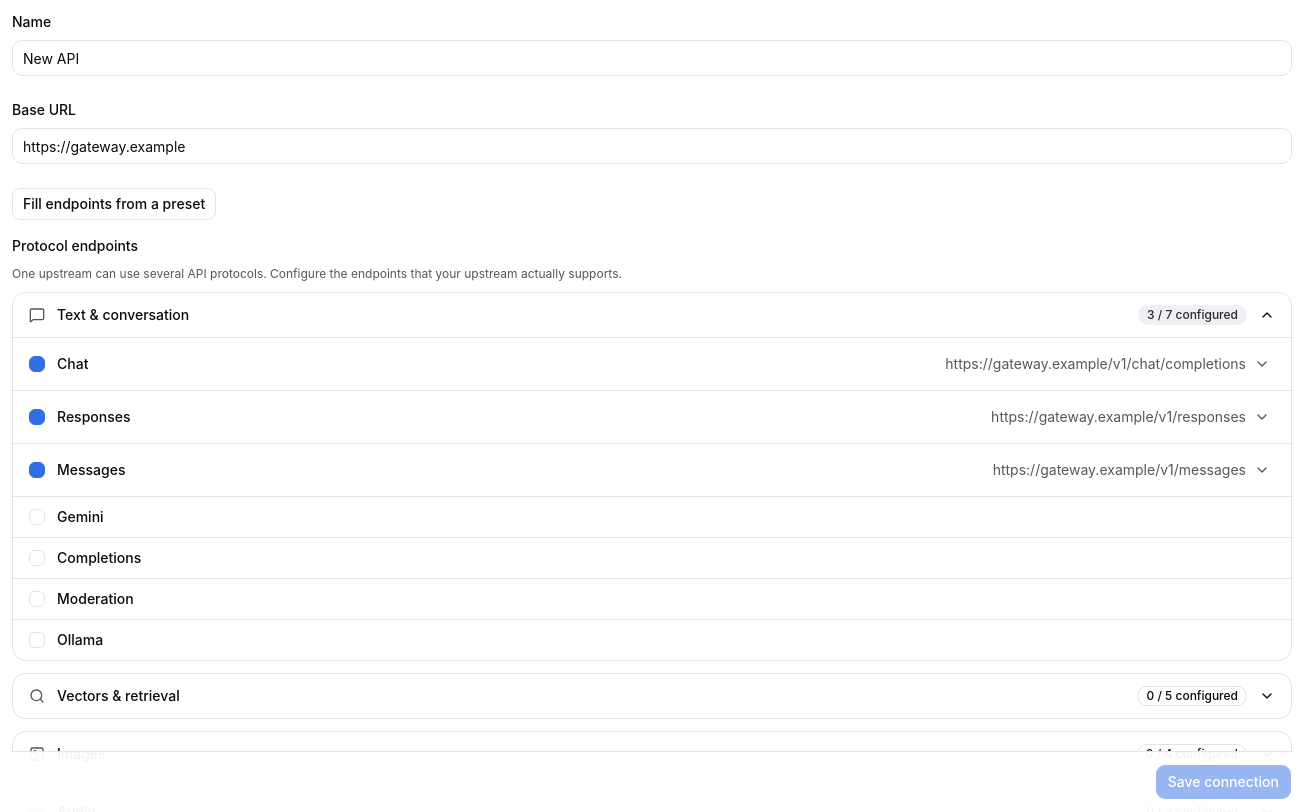
Test case: completing upstream endpoints explicitly › reports that no endpoints are missing without marking the form dirty
Click the button "Fill endpoints from a preset" at (114, 204), box [12,188,216,220]
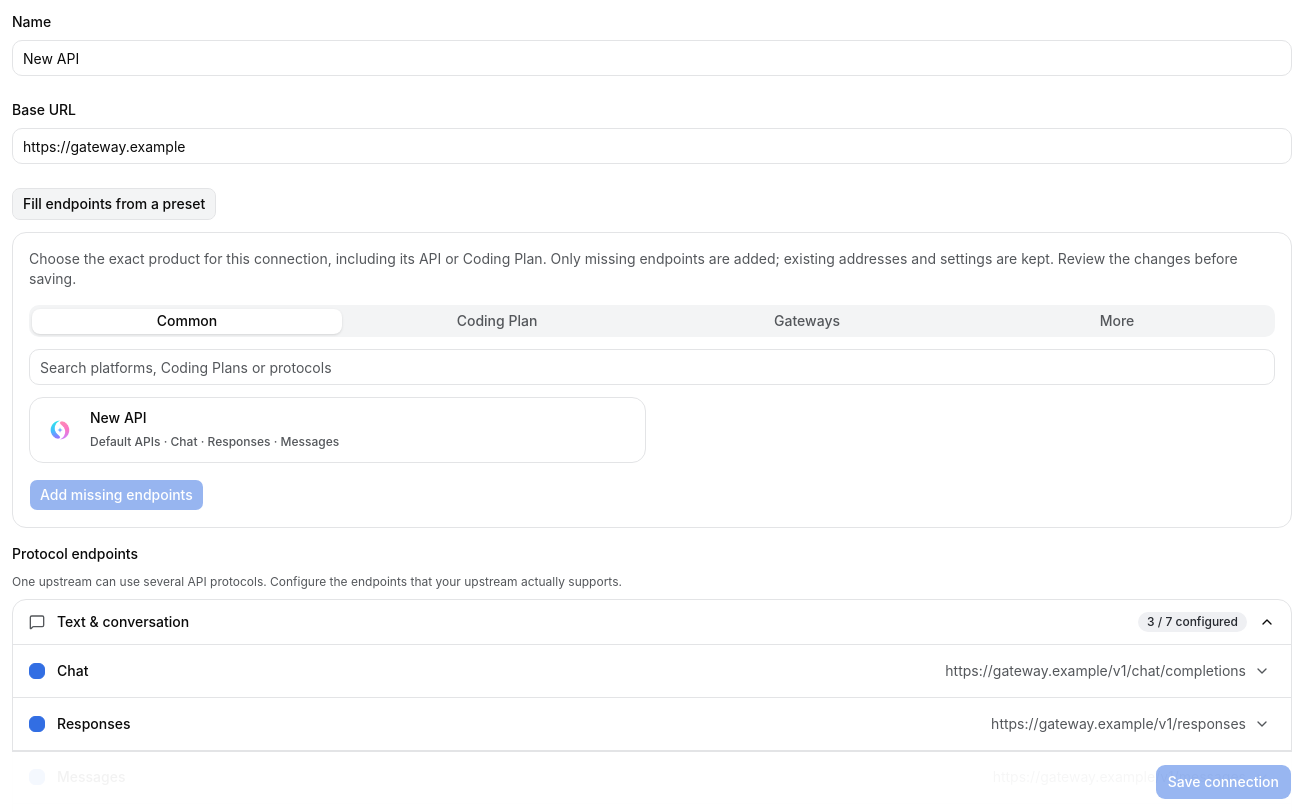
Expected: the button with aria-label "Use New API" is shown
Click the button with aria-label "Use New API" at (118, 418), box [29,397,646,462]
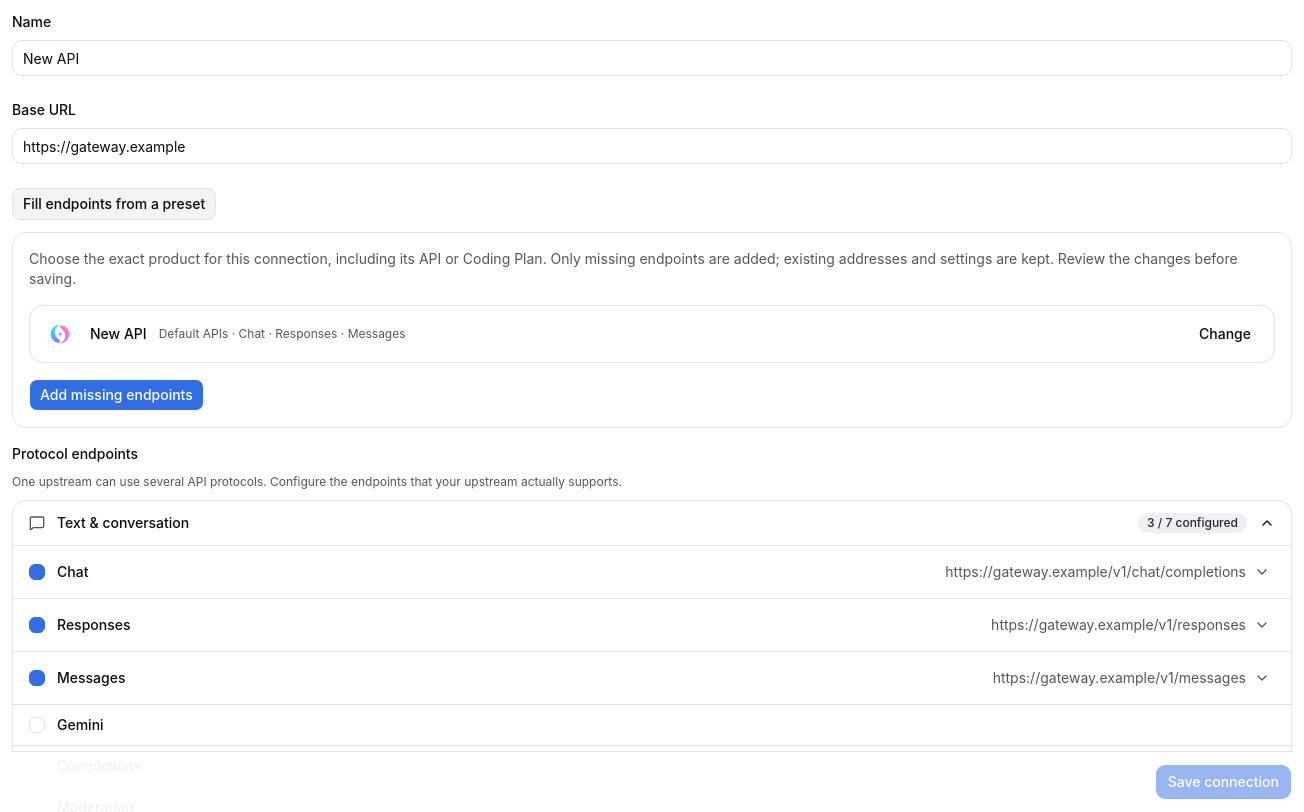
Click the button "Add missing endpoints" at (116, 395), box [29,379,204,411]
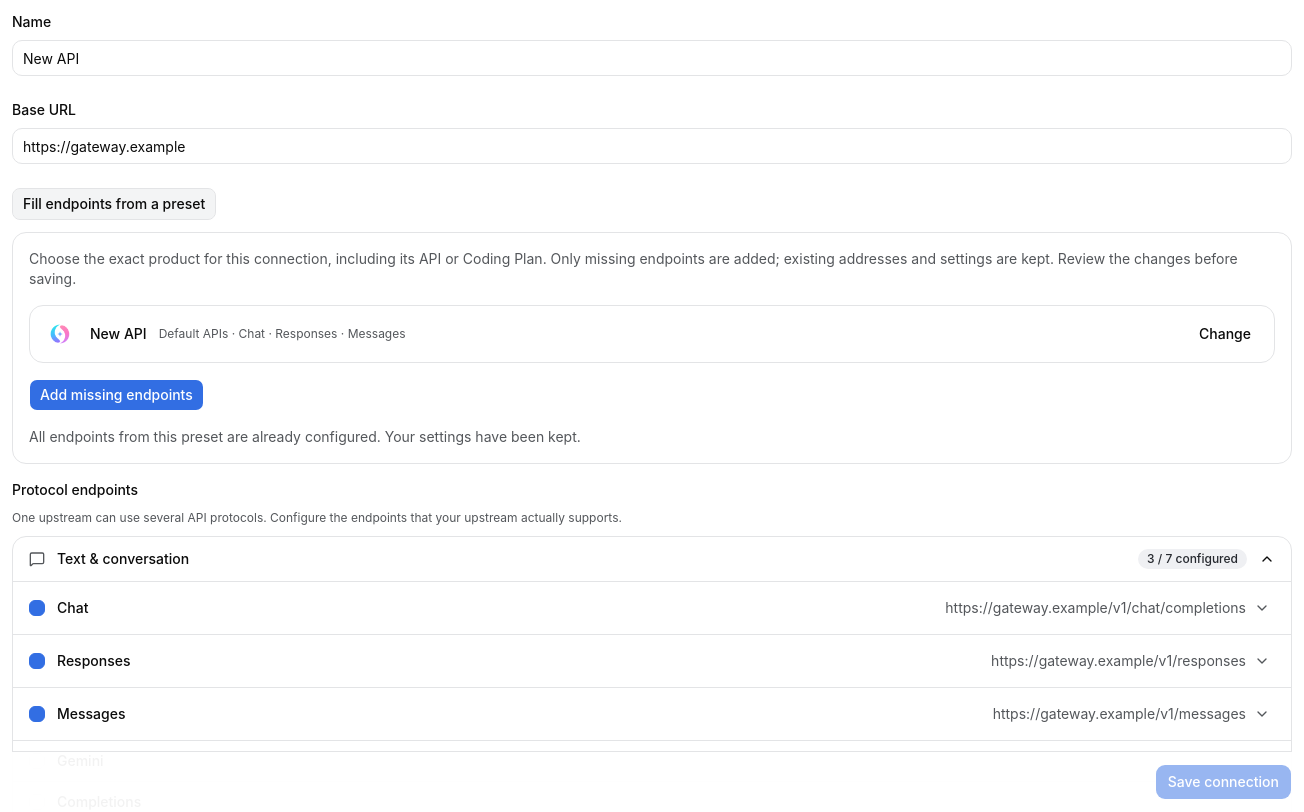
Expected: the button "Save connection" is disabled, [1155,764,1292,800]
Expected: the message shows "All endpoints from this preset are already configured", [29,428,581,445]
